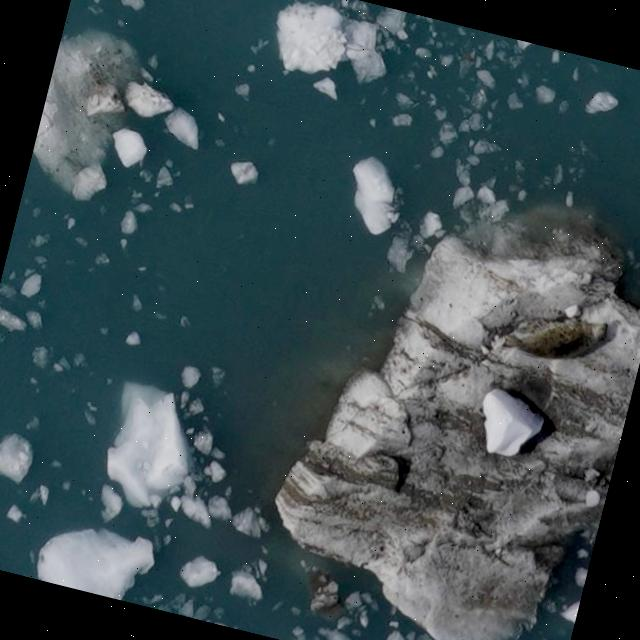seal: (500, 318, 610, 361)
